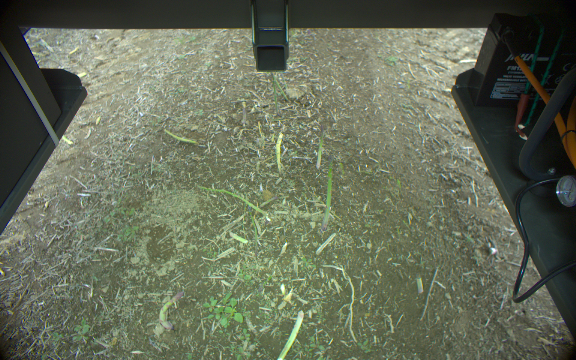aspa: (191, 182, 267, 215), (275, 309, 305, 360), (320, 152, 335, 232), (159, 290, 185, 332), (273, 130, 284, 176)
